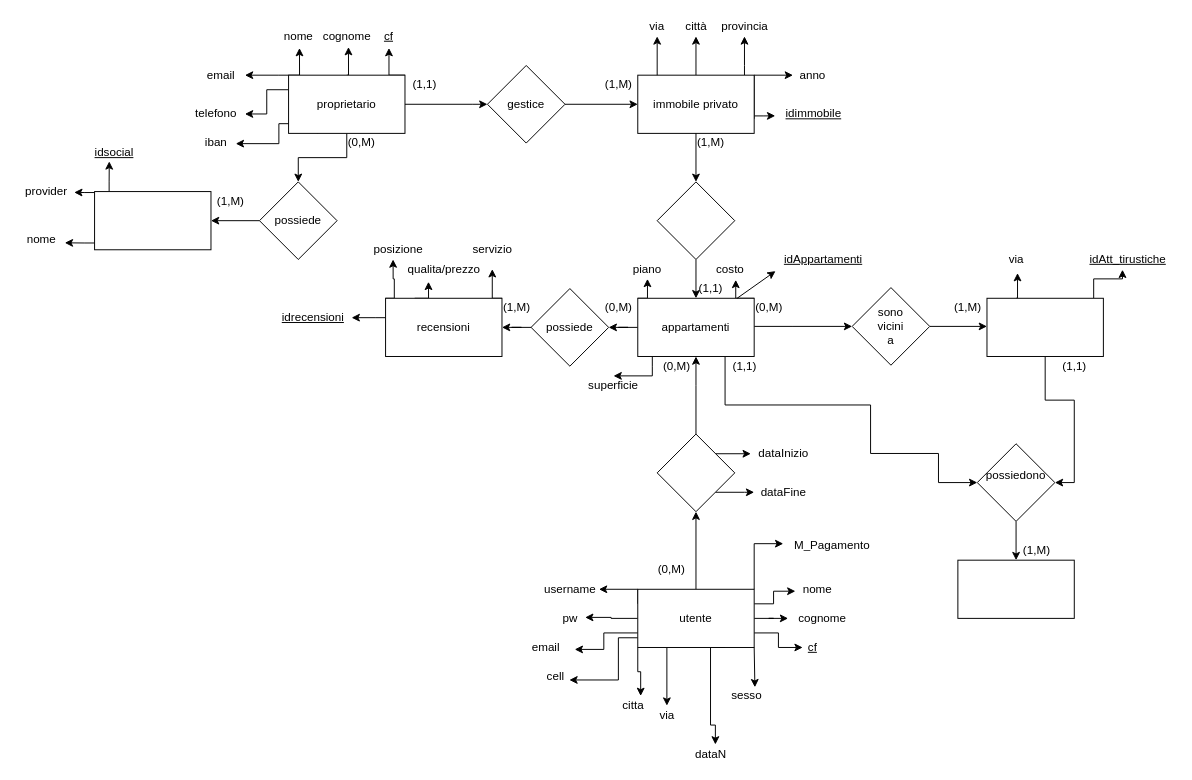
Some shapes in this 1192 by 780 pixel diagram are drawn without their labels. Each missing label, with the centre of its shape:
"Att_turistiche" belongs at pixel 1044 326.
"formato" belongs at pixel 695 220.
"immagine" belongs at pixel 1015 588.
"prenota" belongs at pixel 695 472.
"social" belongs at pixel 152 220.
